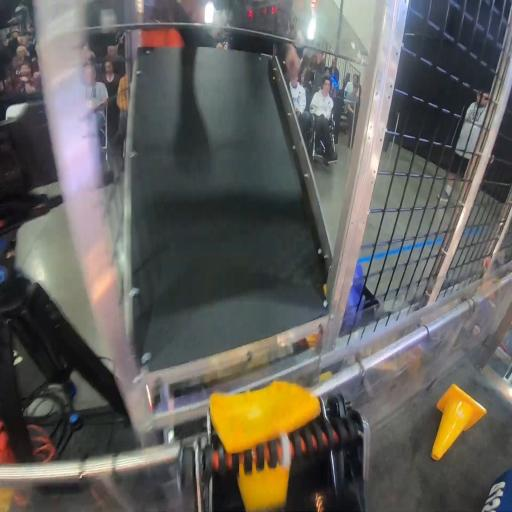robot: (483, 465, 512, 512)
